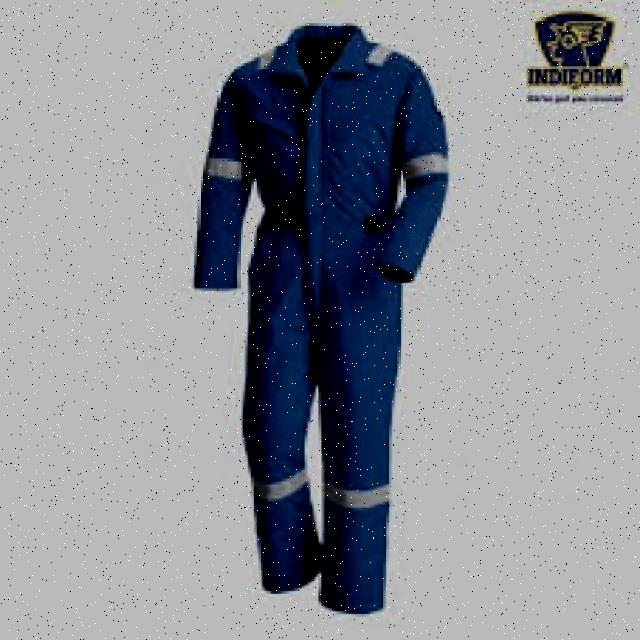Mask: (194, 29, 451, 576)
